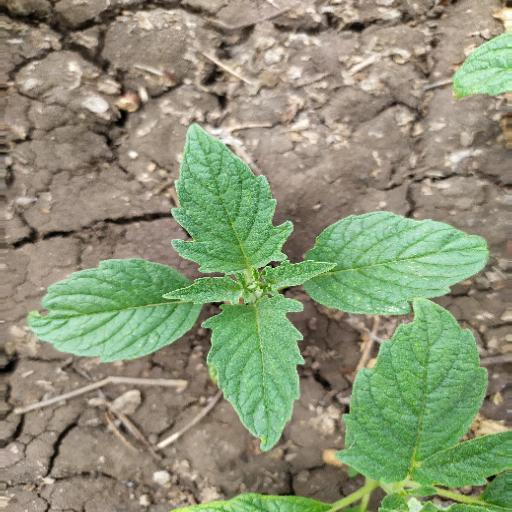crop: (36, 119, 490, 430)
